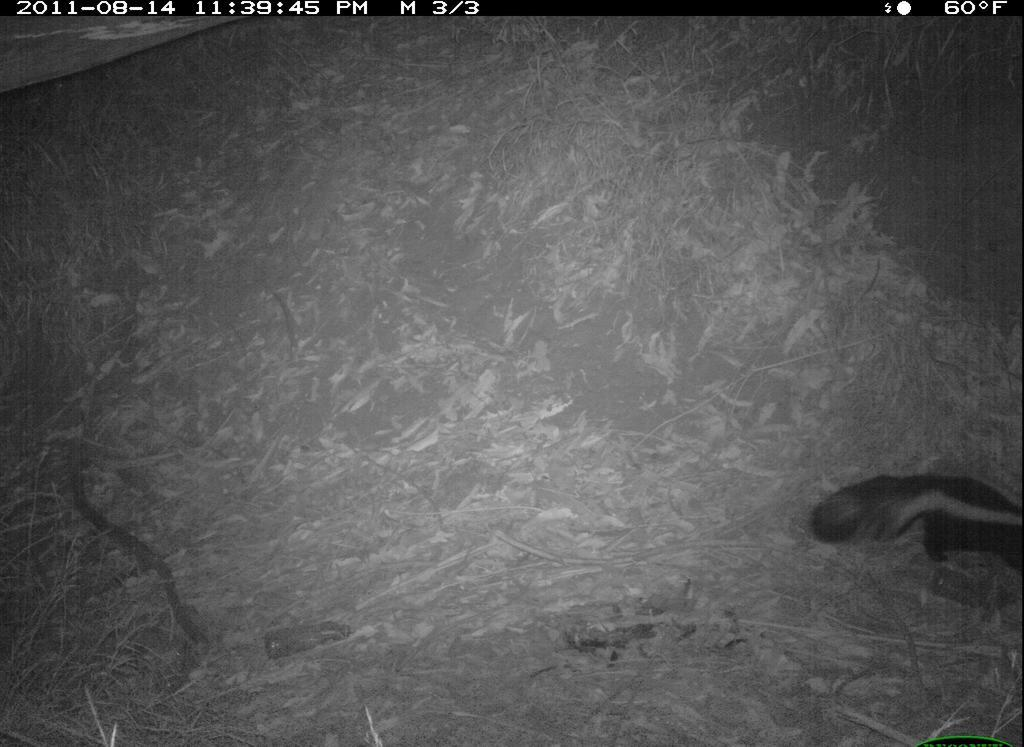skunk: (801, 457, 1023, 575)
